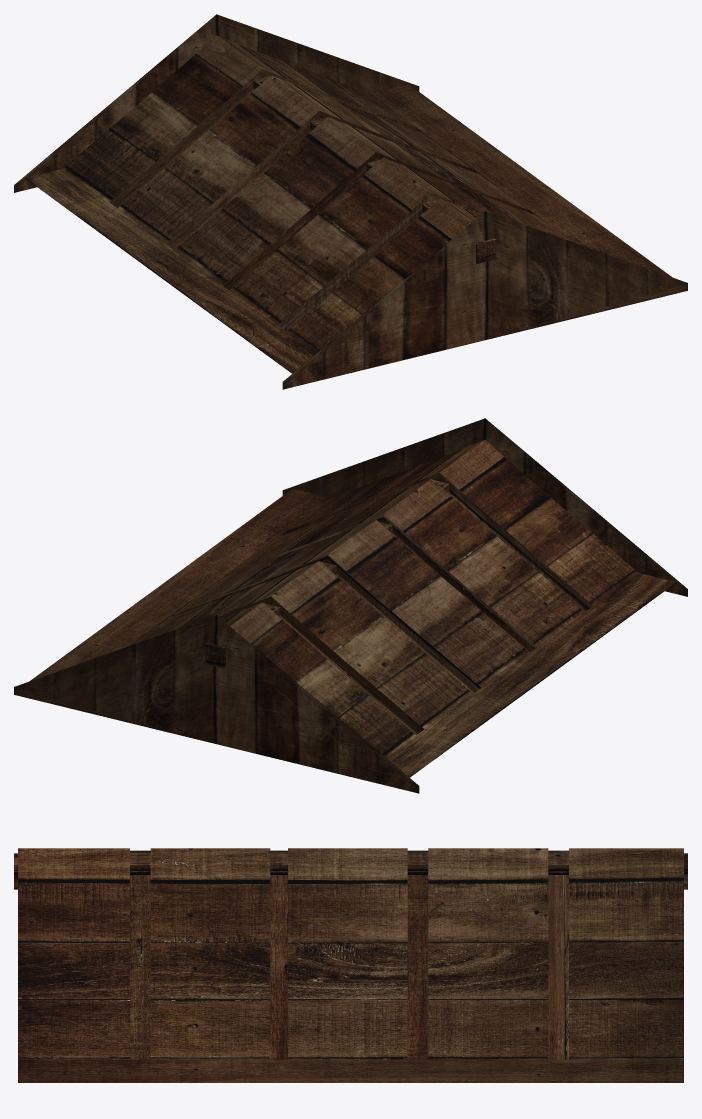
File: Plafond final.fbx
3 renders of one model, top to bottom at view 1: azimuth 30°, elevation 25°; view 2: azimuth 150°, elevation 25°; view 3: azimuth 270°, elevation 25°, orthographic. The views are drawn at different scales.
Parts seen in each view (by area): view 1: pPlane1, pPlane3, pPlane2, pCube1; view 2: pPlane1, pPlane2, pPlane3, pCube1; view 3: pPlane1, pCube1.
Part boxes in pixels (x1,y1,x2,y2): pPlane1: (25, 35, 671, 373); pPlane3: (282, 211, 687, 389); pPlane2: (14, 14, 419, 192); pCube1: (253, 76, 496, 263); pPlane1: (25, 440, 676, 778); pPlane2: (14, 615, 419, 793); pPlane3: (282, 418, 687, 596); pCube1: (205, 480, 449, 668); pPlane1: (18, 848, 683, 1082); pCube1: (14, 853, 687, 889).
Size of the model in its own units: 44.46 by 13.55 by 51.69.
1 material, 1 textured.
